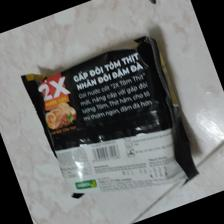3mien: (20, 34, 201, 200)
